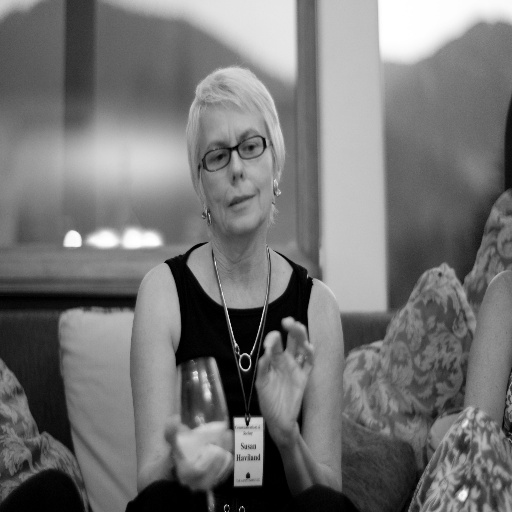hand: (248, 304, 316, 450), (165, 414, 234, 491)
